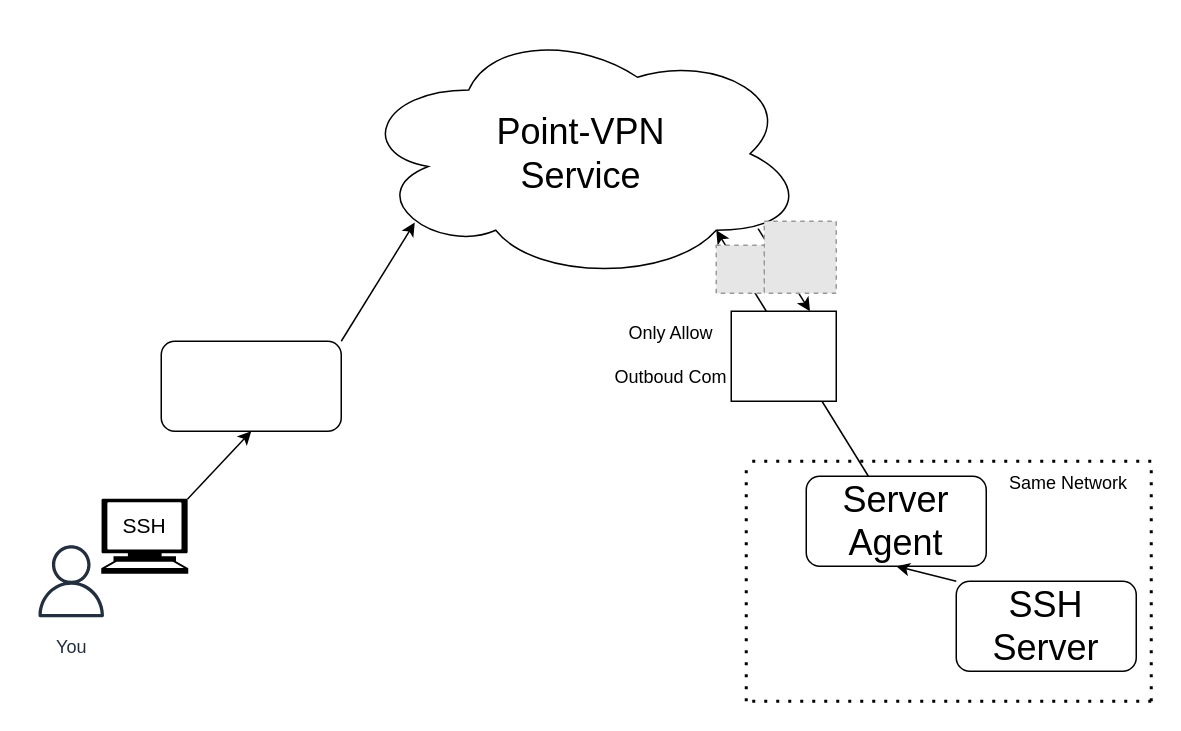
Some shapes in this 1181 by 731 pixel diagram are drawn without their labels. Grey dashed boxes stand in for pictures. Each missing label, with the centre of its shape:
"Client Agent" belongs at (x=250, y=385).
"FW" belongs at (x=783, y=355).
